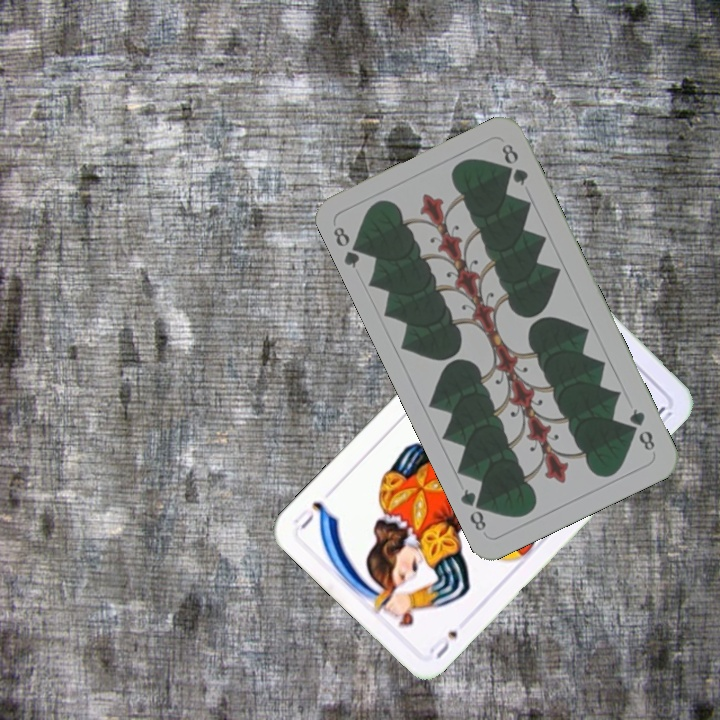G8: (329, 222, 368, 271), (625, 404, 658, 454)
SU: (425, 626, 461, 662)
